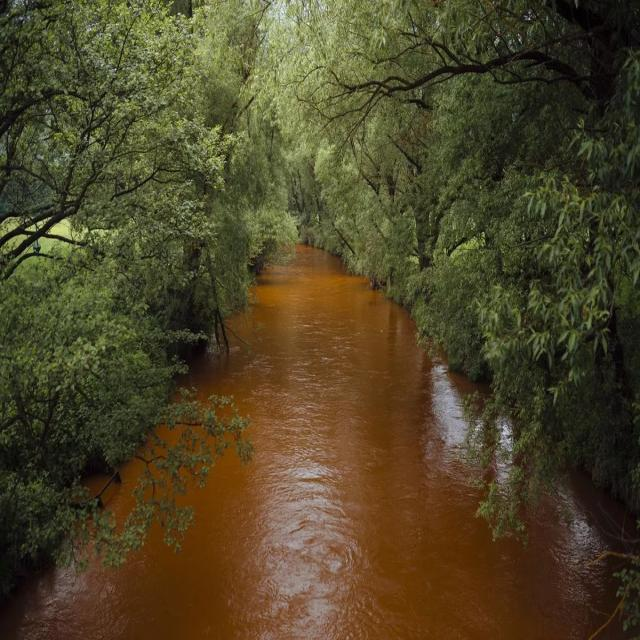yellow_boy: (0, 245, 621, 639)
